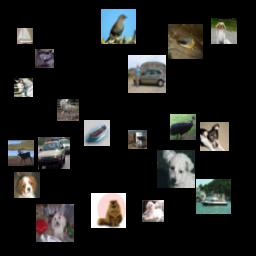automobile: (128, 55, 166, 93), (38, 137, 70, 169)
bird: (168, 24, 203, 59), (101, 9, 136, 44), (170, 114, 196, 140)
cat: (91, 193, 126, 228), (35, 49, 54, 68)
deer: (8, 140, 34, 166)
dog: (157, 150, 195, 188), (36, 204, 74, 242), (200, 122, 229, 151), (211, 18, 237, 44), (14, 172, 40, 198), (142, 200, 164, 222)
ship: (196, 179, 231, 214), (84, 120, 110, 146), (17, 28, 33, 44)
truck: (128, 130, 147, 149)
